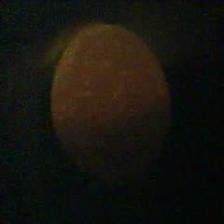fertile: (49, 23, 168, 170)
